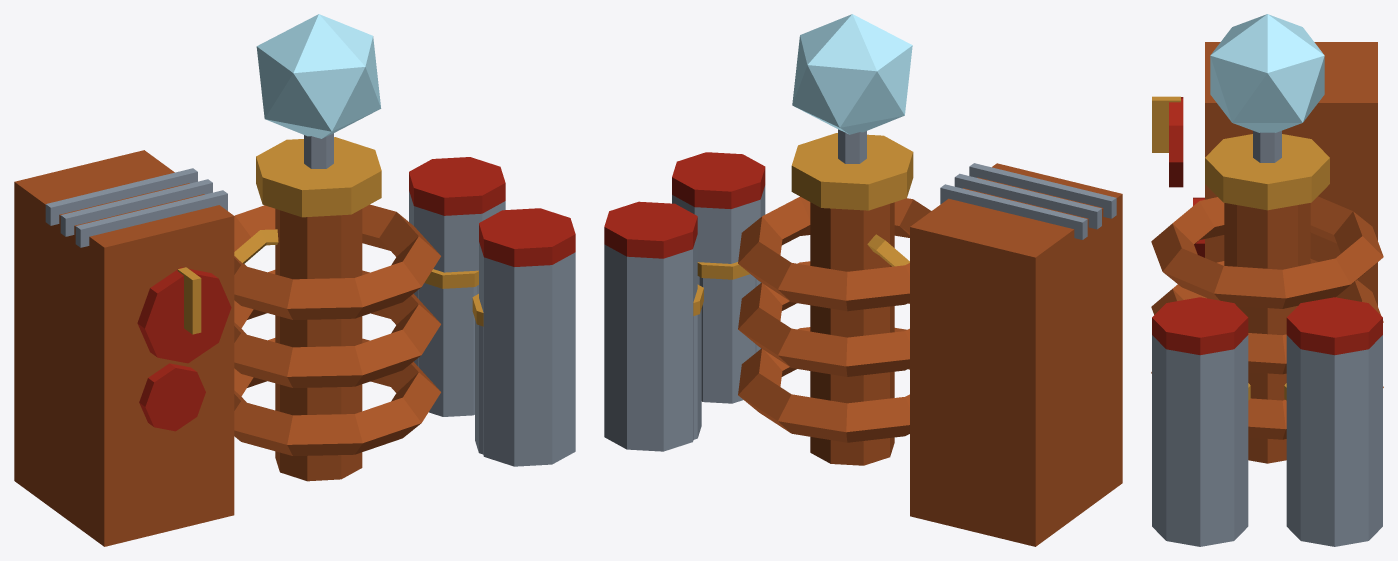
Rendered from TeslaB1.obj.
The picture shows the model from 3 angles, left to right: view 1: azimuth 30°, elevation 25°; view 2: azimuth 150°, elevation 25°; view 3: azimuth 270°, elevation 25°; orthographic projection. The views are drawn at different scales.
Parts seen in each view (by area): view 1: TeslaB1; view 2: TeslaB1; view 3: TeslaB1.
Part boxes in pixels (x1,y1,x2,y2): TeslaB1: [14, 14, 575, 546]; TeslaB1: [604, 14, 1122, 546]; TeslaB1: [1151, 14, 1383, 546].
Bounding box in the file's own units: 1.09 × 0.99 × 0.484.
